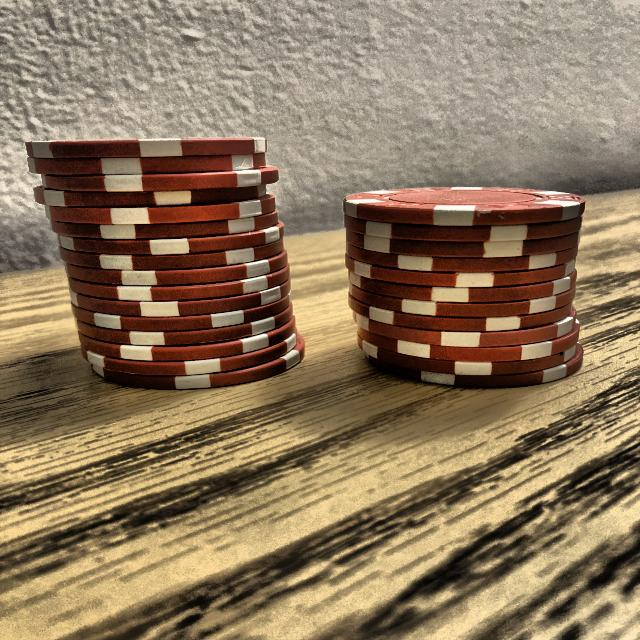Chip: (11, 121, 331, 402), (332, 162, 594, 399)
